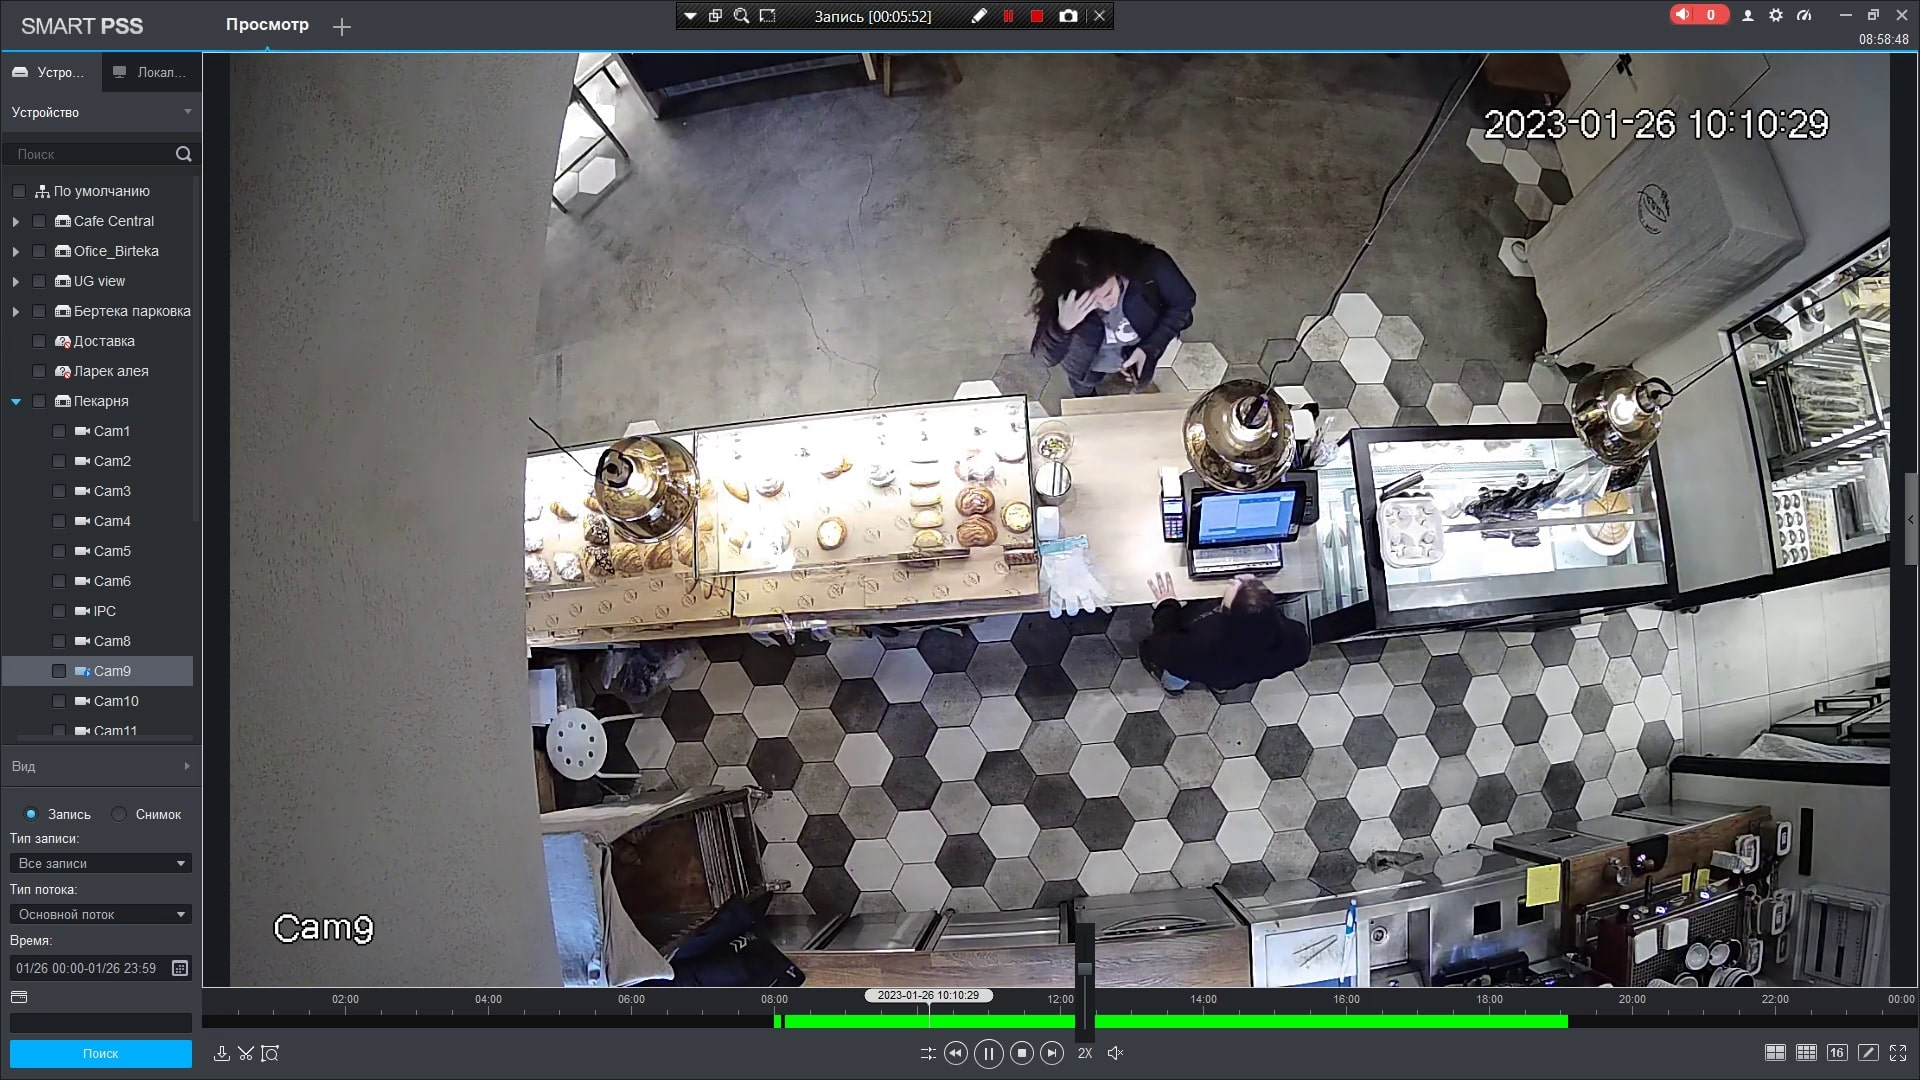barcounter: (534, 425, 1680, 636)
person: (1020, 207, 1193, 397), (1139, 565, 1303, 704)
